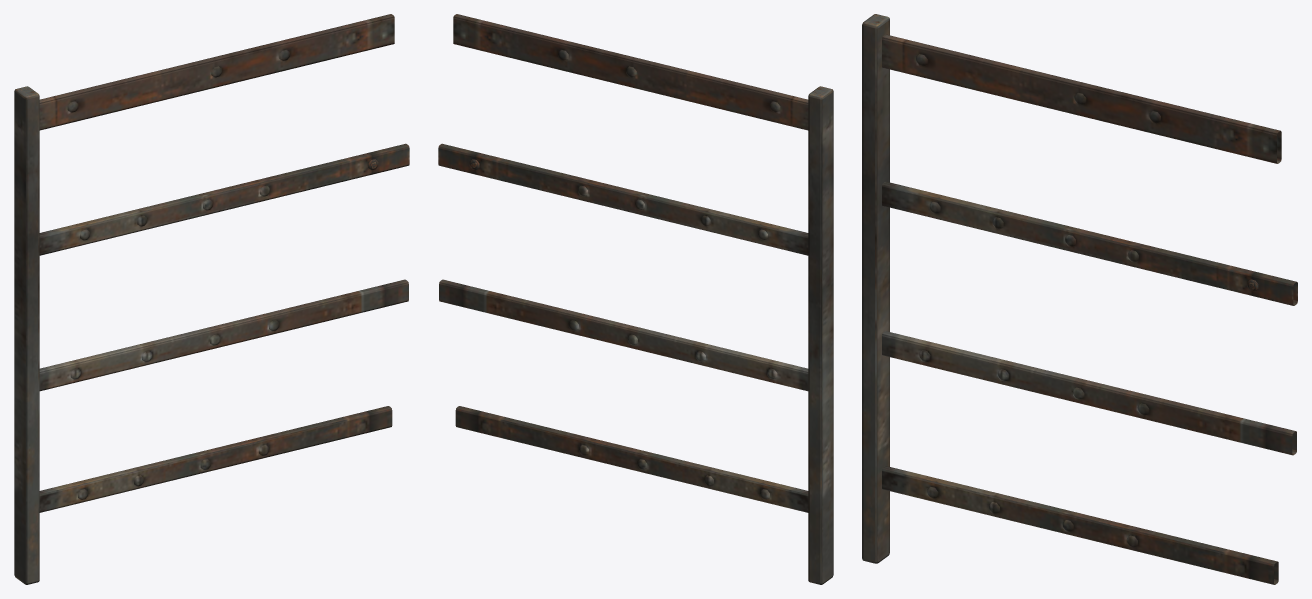
The model's file is wall_002.glb.
3 views of the same model, side by side, from view 1: azimuth 30°, elevation 25°; view 2: azimuth 150°, elevation 25°; view 3: azimuth 330°, elevation 25° (orthographic). The views are drawn at different scales.
Parts seen in each view (by area): view 1: Building_12_061; view 2: Building_12_061; view 3: Building_12_061.
Part boxes in pixels (x1,y1,x2,y2): Building_12_061: [14, 14, 409, 584]; Building_12_061: [438, 14, 833, 584]; Building_12_061: [862, 14, 1297, 584].
Bounding box in the file's own units: 1.66 × 2 × 0.0915.
Materials: 1 (1 with a texture image).
